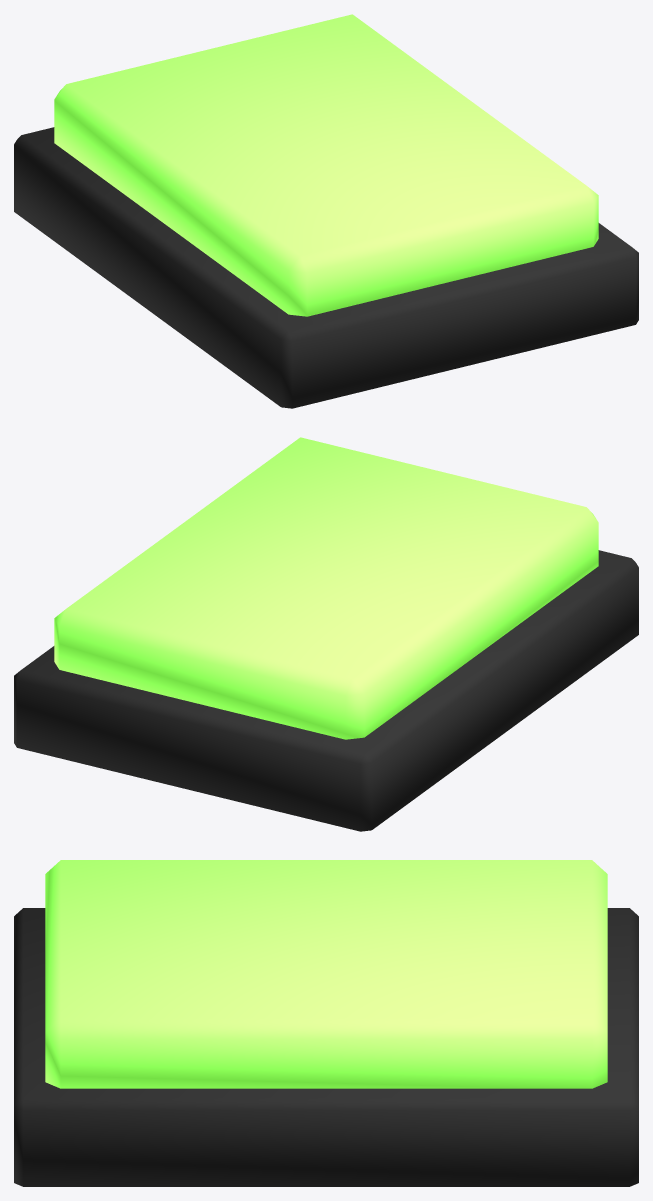
The model's file is Button.fbx.
3 views of the same model, one above another, from view 1: azimuth 30°, elevation 25°; view 2: azimuth 150°, elevation 25°; view 3: azimuth 270°, elevation 25° (orthographic). The views are drawn at different scales.
Visible parts, largest first — view 1: 立方体.004, 立方体.005; view 2: 立方体.004, 立方体.005; view 3: 立方体.004, 立方体.005.
Part boxes in pixels (x1,y1,x2,y2): 立方体.004: (54,14,598,316); 立方体.005: (14,127,638,408); 立方体.004: (54,437,598,739); 立方体.005: (14,550,638,831); 立方体.004: (45,860,607,1088); 立方体.005: (14,908,638,1186).
Size of the model in its own units: 0.15 by 0.0525 by 0.2.
